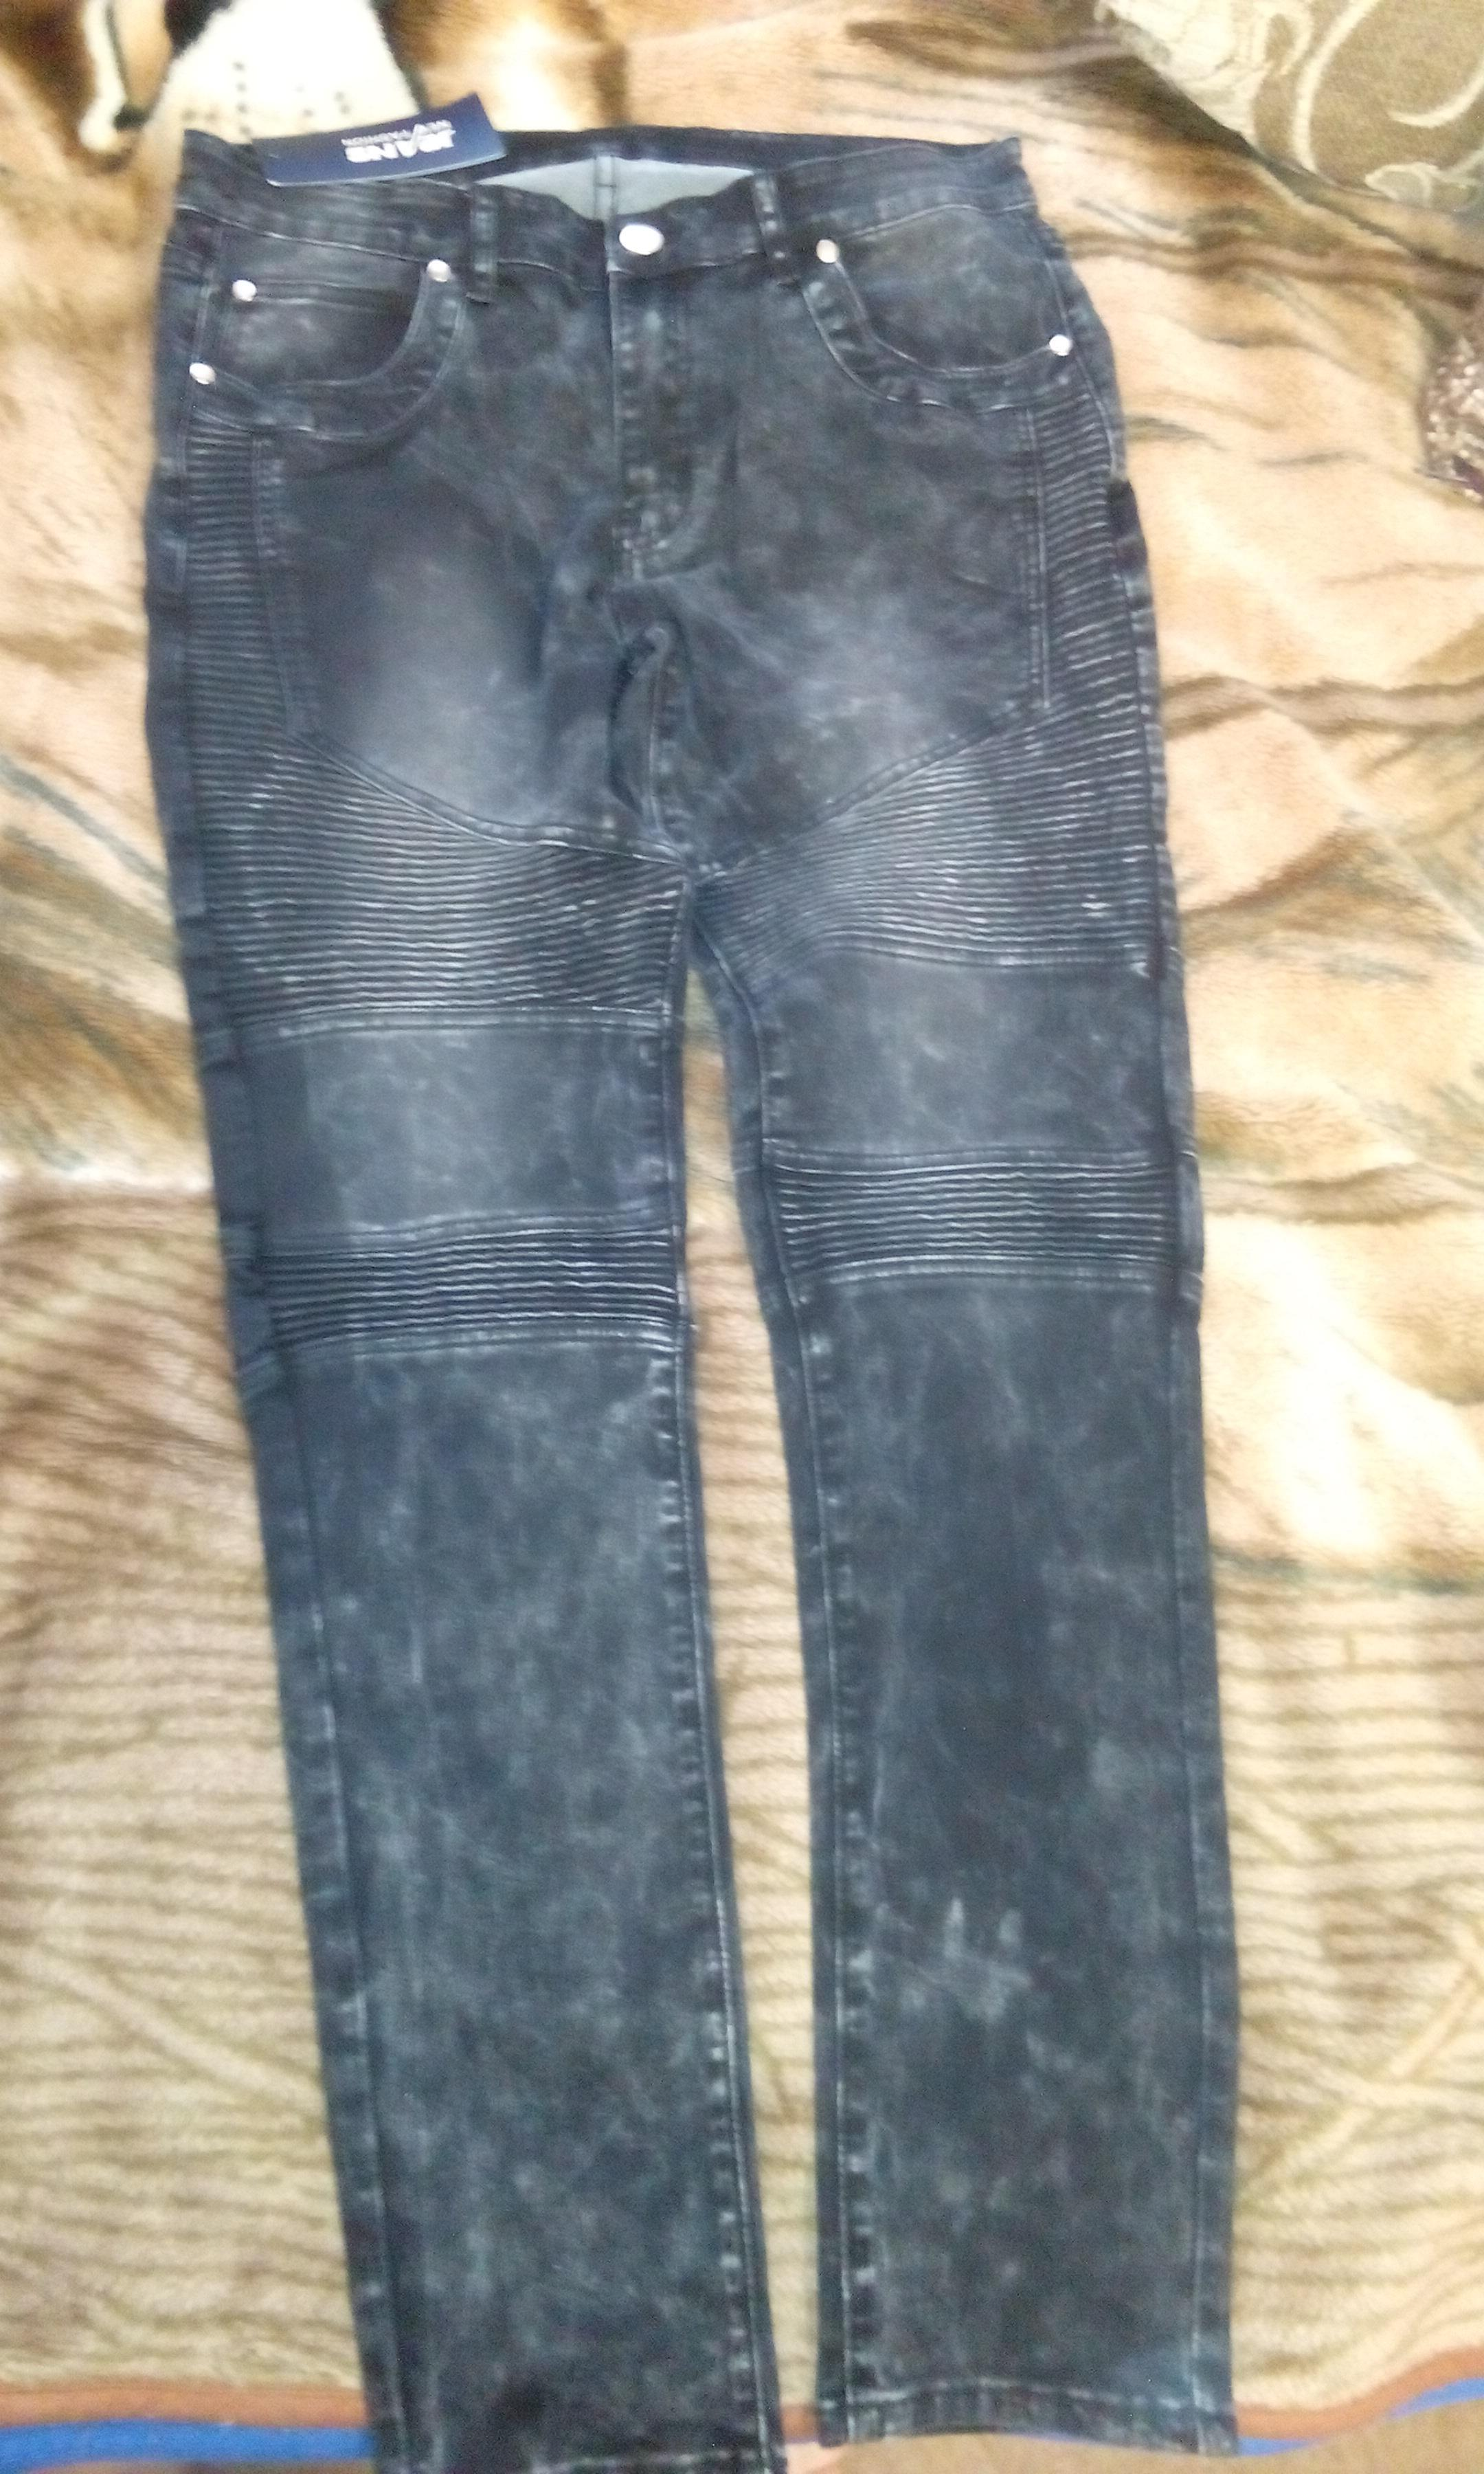jeans: (147, 110, 1233, 2474)
